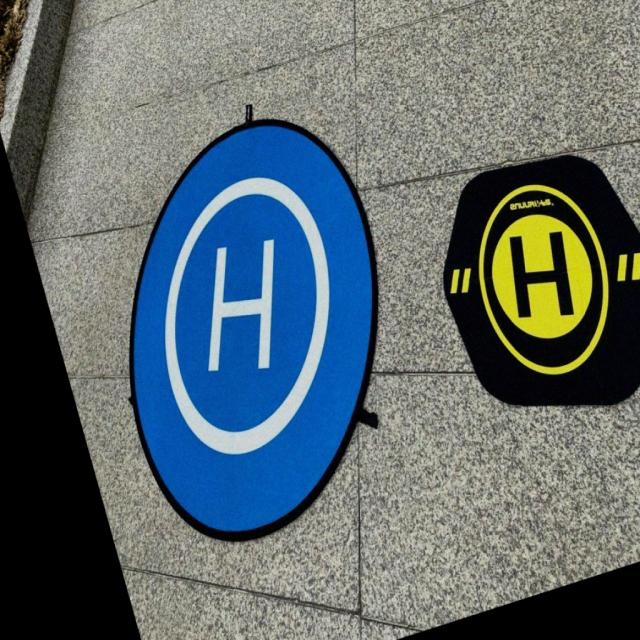helipad: (160, 170, 336, 458), (474, 180, 612, 378)
